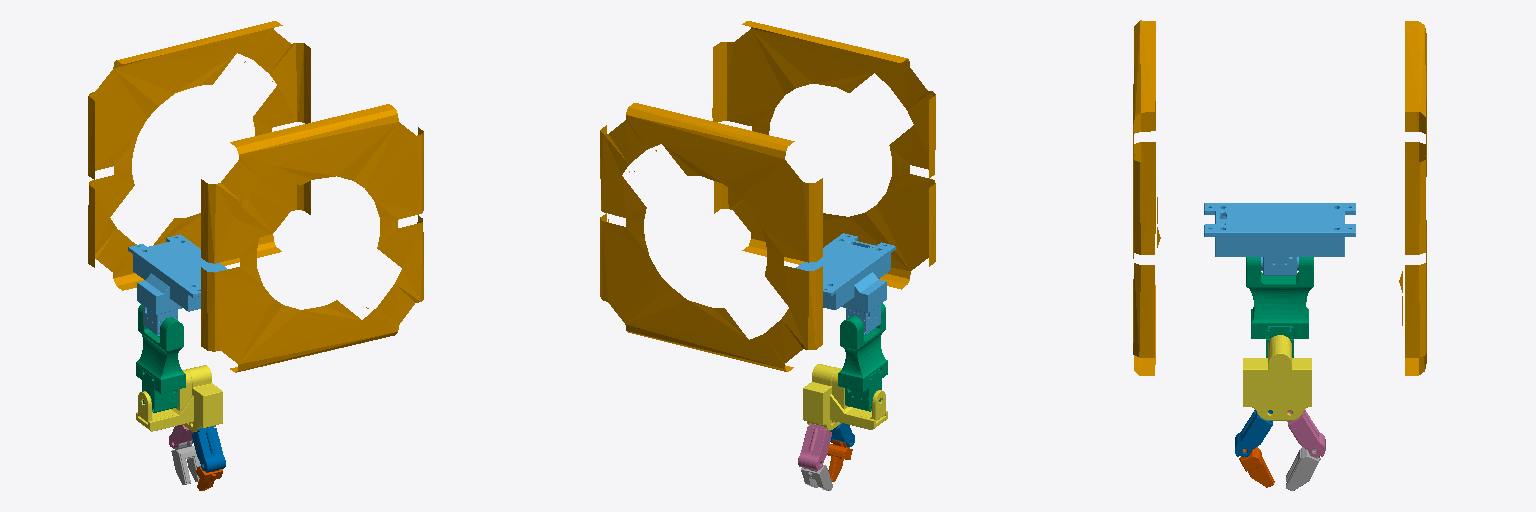
URDF robot description (astrobee):
<?xml version="1.0" ?>

<!-- This is a modified version of the original Astrobee URDF -->
<!-- This was generated via rosrun and xacro: see generate_astrobee_urdf.sh for more info -->
<!-- Changes include: -->
<!-- 1) Remove all references to gazebo -->
<!-- 2) Remove the KDL inertia workaround with the inertial link/joint -->
<!-- (^ This workaround is not needed for pybullet, and if left in, pybullet adds in a "default" inertia) -->

<robot name="astrobee">
  <!-- BASE GEOMETRY -->
  <link name="honey_body">
    <self_collide>false</self_collide>
    <!-- body -->
    <visual name="body_visual">
      <origin rpy="0 0 0" xyz="0 0 0"/>
      <geometry>
        <mesh filename="../meshes/astrobee/dae/body.dae"/>
      </geometry>
    </visual>
    <collision name="body_collision">
      <origin rpy="0 0 0" xyz="-0.000794 0.000229 -0.003907"/>
      <geometry>
        <box size="0.290513 0.151942 0.281129"/>
      </geometry>
    </collision>
    <inertial>
      <mass value="9.0877"/>
      <origin xyz="0 0 0"/>
      <inertia ixx="0.1454" ixy="0.0" ixz="0.0" iyy="0.1366" iyz="0.0" izz="0.1594"/>
    </inertial>
    <!-- port pmc -->
    <visual name="pmc_port_visual">
      <origin rpy="0 0 0" xyz="0 0 0"/>
      <geometry>
        <mesh filename="../meshes/astrobee/dae/pmc.dae"/>
      </geometry>
    </visual>
    <visual name="pmc_port_bumper_visual">
      <origin rpy="0 0 0" xyz="0 0 0"/>
      <geometry>
        <mesh filename="../meshes/astrobee/dae/pmc_bumper.dae"/>
      </geometry>
    </visual>
    <visual name="pmc_port_skin_visual">
      <origin rpy="0 0 0" xyz="0 0 0"/>
      <geometry>
        <mesh filename="../meshes/astrobee/dae/pmc_skin_honey.dae"/>
      </geometry>
    </visual>
    <collision name="pmc_port_collision">
      <origin rpy="0 0 0" xyz="0 -0.117546 0"/>
      <geometry>
        <box size="0.319199 0.083962 0.319588"/>
      </geometry>
    </collision>
    <!-- starboard pmc -->
    <visual name="pmc_stbd_visual">
      <origin rpy="0 3.14 3.14" xyz="0 0 0"/>
      <geometry>
        <mesh filename="../meshes/astrobee/dae/pmc.dae"/>
      </geometry>
    </visual>
    <visual name="pmc_stbd_bumper_visual">
      <origin rpy="0 3.14 3.14" xyz="0 0 0"/>
      <geometry>
        <mesh filename="../meshes/astrobee/dae/pmc_bumper.dae"/>
      </geometry>
    </visual>
    <visual name="pmc_stbd_skin_visual">
      <origin rpy="0 3.14 3.14" xyz="0 0 0"/>
      <geometry>
        <mesh filename="../meshes/astrobee/dae/pmc_skin_honey.dae"/>
      </geometry>
    </visual>
    <collision name="pmc_stbd_collision">
      <origin rpy="0 0 0" xyz="0 0.117546 0"/>
      <geometry>
        <box size="0.319199 0.083962 0.319588"/>
      </geometry>
    </collision>
  </link>
  <link name="honey_top_aft">
    <self_collide>false</self_collide>
    <inertial>
      <origin rpy="0 0 0" xyz="0 0 0"/>
      <mass value="0.3078"/>
      <inertia ixx="0.02705" ixy="0.0" ixz="0.0" iyy="0.02705" iyz="0.0" izz="0.02705"/>
    </inertial>
    <visual>
      <origin rpy="0 0 0" xyz="0 0 0"/>
      <geometry>
        <mesh filename="../meshes/astrobee/dae/base_link.dae"/>
      </geometry>
    </visual>
    <collision>
      <origin rpy="0 0 0" xyz="0 -0.038125 0"/>
      <geometry>
        <box size="0.090441 0.152400 0.076250"/>
      </geometry>
    </collision>
  </link>
  <joint name="top_aft" type="fixed">
    <origin rpy="0.0 3.1415 0.0" xyz="-0.01 0.0 -0.065"/>
    <parent link="honey_body"/>
    <child link="honey_top_aft"/>
  </joint>
  <link name="honey_top_aft_arm_proximal_link">
    <self_collide>false</self_collide>
    <inertial>
      <origin rpy="0 0 0" xyz="0 0 0"/>
      <mass value="0.1623"/>
      <inertia ixx="0.02705" ixy="0.0" ixz="0.0" iyy="0.02705" iyz="0.0" izz="0.02705"/>
    </inertial>
    <visual>
      <origin rpy="0 0 0" xyz="0 0 0"/>
      <geometry>
        <mesh filename="../meshes/astrobee/dae/arm_proximal_link.dae"/>
      </geometry>
    </visual>
    <collision>
      <origin rpy="0 0 0" xyz="-0.049625 -0.0022 0"/>
      <geometry>
        <box size="0.123250 0.068000 0.042400"/>
      </geometry>
    </collision>
  </link>
  <joint name="top_aft_arm_proximal_joint" type="revolute">
    <origin rpy="0 1.57079632679 0" xyz="0.11945 0 0.065"/>
    <parent link="honey_top_aft"/>
    <child link="honey_top_aft_arm_proximal_link"/>
    <axis xyz="0 -1 0"/>
    <limit effort="1.0" lower="-2.0944" upper="1.57079" velocity="0.12"/>
  </joint>
  <link name="honey_top_aft_arm_distal_link">
    <self_collide>false</self_collide>
    <inertial>
      <origin rpy="0 0 0" xyz="0 0 0"/>
      <mass value="0.1033"/>
      <inertia ixx="0.002705" ixy="0.0" ixz="0.0" iyy="0.002705" iyz="0.0" izz="0.002705"/>
    </inertial>
    <visual>
      <origin rpy="0 0 0" xyz="0 0 0"/>
      <geometry>
        <mesh filename="../meshes/astrobee/dae/arm_distal_link.dae"/>
      </geometry>
    </visual>
    <collision>
      <origin rpy="0 0 0" xyz="0 0 -0.02"/>
      <geometry>
        <box size="0.075000 0.070000 0.087400"/>
      </geometry>
    </collision>
  </link>
  <joint name="top_aft_arm_distal_joint" type="revolute">
    <origin rpy="0 0 0" xyz="-0.1 0 0"/>
    <parent link="honey_top_aft_arm_proximal_link"/>
    <child link="honey_top_aft_arm_distal_link"/>
    <axis xyz="0 0 1"/>
    <limit effort="1.0" lower="-1.57079" upper="1.57079" velocity="0.12"/>
  </joint>
  <link name="honey_top_aft_gripper_left_proximal_link">
    <self_collide>false</self_collide>
    <inertial>
      <origin rpy="0 0 0" xyz="0 0 0"/>
      <mass value="0.04"/>
      <inertia ixx="0.002705" ixy="0.0" ixz="0.0" iyy="0.002705" iyz="0.0" izz="0.002705"/>
    </inertial>
    <visual>
      <origin rpy="0 0 0" xyz="0 0 0"/>
      <geometry>
        <mesh filename="../meshes/astrobee/dae/gripper_left_proximal_link.dae"/>
      </geometry>
    </visual>
    <collision>
      <origin rpy="0 0 0" xyz="-0.025547 0 -0.000875"/>
      <geometry>
        <box size="0.067654 0.021750 0.025400"/>
      </geometry>
    </collision>
  </link>
  <joint name="top_aft_gripper_left_proximal_joint" type="revolute">
    <origin rpy="0 0 0" xyz="-0.039 -0.010002 -0.0497"/>
    <parent link="honey_top_aft_arm_distal_link"/>
    <child link="honey_top_aft_gripper_left_proximal_link"/>
    <axis xyz="0 0 1"/>
    <limit effort="0.1" lower="0.349066" upper="0.698132" velocity="0.12"/>
  </joint>
  <link name="honey_top_aft_gripper_left_distal_link">
    <self_collide>false</self_collide>
    <inertial>
      <origin rpy="0 0 0" xyz="0 0 0"/>
      <mass value="0.0116026396896178"/>
      <inertia ixx="0.002705" ixy="0.0" ixz="0.0" iyy="0.002705" iyz="0.0" izz="0.002705"/>
    </inertial>
    <visual>
      <origin rpy="0 0 0" xyz="0 0 0"/>
      <geometry>
        <mesh filename="../meshes/astrobee/dae/gripper_left_distal_link.dae"/>
      </geometry>
    </visual>
    <collision>
      <origin rpy="0 0 0" xyz="-0.021524 0 -0.000875"/>
      <geometry>
        <box size="0.056953 0.021750 0.025400"/>
      </geometry>
    </collision>
  </link>
  <joint name="top_aft_gripper_left_distal_joint" type="revolute">
    <origin rpy="0 0 0" xyz="-0.05 0 0"/>
    <parent link="honey_top_aft_gripper_left_proximal_link"/>
    <child link="honey_top_aft_gripper_left_distal_link"/>
    <axis xyz="0 0 1"/>
    <limit effort="0.1" lower="-1.22173" upper="-0.69813" velocity="0.12"/>
  </joint>
  <link name="honey_top_aft_gripper_right_proximal_link">
    <self_collide>false</self_collide>
    <inertial>
      <origin rpy="0 0 0" xyz="0 0 0"/>
      <mass value="0.04"/>
      <inertia ixx="0.002705" ixy="0.0" ixz="0.0" iyy="0.002705" iyz="0.0" izz="0.002705"/>
    </inertial>
    <visual>
      <origin rpy="0 0 0" xyz="0 0 0"/>
      <geometry>
        <mesh filename="../meshes/astrobee/dae/gripper_right_proximal_link.dae"/>
      </geometry>
    </visual>
    <collision>
      <origin rpy="0 0 0" xyz="-0.025547 0 0.000875"/>
      <geometry>
        <box size="0.067654 0.021750 0.025400"/>
      </geometry>
    </collision>
  </link>
  <joint name="top_aft_gripper_right_proximal_joint" type="revolute">
    <origin rpy="0 0 0" xyz="-0.039 0.010002 -0.0497"/>
    <parent link="honey_top_aft_arm_distal_link"/>
    <child link="honey_top_aft_gripper_right_proximal_link"/>
    <axis xyz="0 0 1"/>
    <limit effort="0.1" lower="-0.698132" upper="-0.349066" velocity="0.12"/>
  </joint>
  <link name="honey_top_aft_gripper_right_distal_link">
    <self_collide>false</self_collide>
    <inertial>
      <origin rpy="0 0 0" xyz="0 0 0"/>
      <mass value="0.02285"/>
      <inertia ixx="0.002705" ixy="0.0" ixz="0.0" iyy="0.002705" iyz="0.0" izz="0.002705"/>
    </inertial>
    <visual>
      <origin rpy="0 0 0" xyz="0 0 0"/>
      <geometry>
        <mesh filename="../meshes/astrobee/dae/gripper_right_distal_link.dae"/>
      </geometry>
    </visual>
    <collision>
      <origin rpy="0 0 0" xyz="-0.021512 0 0.000875"/>
      <geometry>
        <box size="0.056894 0.021750 0.025400"/>
      </geometry>
    </collision>
  </link>
  <joint name="top_aft_gripper_right_distal_joint" type="revolute">
    <origin rpy="0 0 0" xyz="-0.05 0 0"/>
    <parent link="honey_top_aft_gripper_right_proximal_link"/>
    <child link="honey_top_aft_gripper_right_distal_link"/>
    <axis xyz="0 0 1"/>
    <limit effort="0.1" lower="0.69813" upper="1.22173" velocity="0.12"/>
  </joint>
</robot>

--- What the picture shows (computed from the rendered views, not written in the file) ---
Views: 3 orthographic renders of the robot side by side, from view 1: azimuth 30°, elevation 25°; view 2: azimuth 150°, elevation 25°; view 3: azimuth 270°, elevation 25°.
Model astrobee with 8 links and 7 joints (6 revolute, 1 fixed), rooted at honey_body, posed all joints at 0 but 4 set to mid-range because 0 is outside their limits (top_aft_gripper_left_proximal_joint = 0.5236, top_aft_gripper_left_distal_joint = -0.9599, top_aft_gripper_right_proximal_joint = -0.5236, top_aft_gripper_right_distal_joint = 0.9599).
Links seen in each view (by area): view 1: honey_body, honey_top_aft, honey_top_aft_arm_proximal_link, honey_top_aft_arm_distal_link, honey_top_aft_gripper_left_proximal_link, honey_top_aft_gripper_right_distal_link; view 2: honey_body, honey_top_aft, honey_top_aft_arm_proximal_link, honey_top_aft_arm_distal_link, honey_top_aft_gripper_right_proximal_link, honey_top_aft_gripper_left_distal_link, honey_top_aft_gripper_right_distal_link; view 3: honey_body, honey_top_aft, honey_top_aft_arm_distal_link, honey_top_aft_arm_proximal_link, honey_top_aft_gripper_left_proximal_link, honey_top_aft_gripper_right_proximal_link, honey_top_aft_gripper_right_distal_link, honey_top_aft_gripper_left_distal_link.
Link boxes in pixels (box(x1,y1,x2,y2)): honey_body: box(88, 21, 423, 372); honey_top_aft: box(128, 234, 227, 336); honey_top_aft_arm_proximal_link: box(136, 304, 185, 412); honey_top_aft_arm_distal_link: box(136, 365, 222, 431); honey_top_aft_gripper_left_proximal_link: box(191, 426, 225, 472); honey_top_aft_gripper_right_distal_link: box(171, 441, 200, 484); honey_body: box(600, 21, 935, 371); honey_top_aft: box(796, 233, 895, 334); honey_top_aft_arm_proximal_link: box(838, 303, 887, 411); honey_top_aft_arm_distal_link: box(803, 364, 887, 430); honey_top_aft_gripper_right_proximal_link: box(798, 424, 831, 470); honey_top_aft_gripper_left_distal_link: box(827, 440, 852, 481); honey_top_aft_gripper_right_distal_link: box(801, 465, 832, 490); honey_body: box(1133, 20, 1426, 375); honey_top_aft: box(1204, 203, 1355, 275); honey_top_aft_arm_distal_link: box(1243, 335, 1311, 420); honey_top_aft_arm_proximal_link: box(1246, 257, 1313, 357); honey_top_aft_gripper_left_proximal_link: box(1235, 410, 1272, 456); honey_top_aft_gripper_right_proximal_link: box(1287, 410, 1325, 456); honey_top_aft_gripper_right_distal_link: box(1286, 447, 1320, 490); honey_top_aft_gripper_left_distal_link: box(1239, 447, 1274, 487).
Bounding box of the posed robot: 0.3007 × 0.2957 × 0.5043 m (x, y, z).
Meshes: 11 distinct files referenced, 9 mesh visuals loaded (8 Collada DAE); not drawn: 5 (reference not matched to a file when rendering).